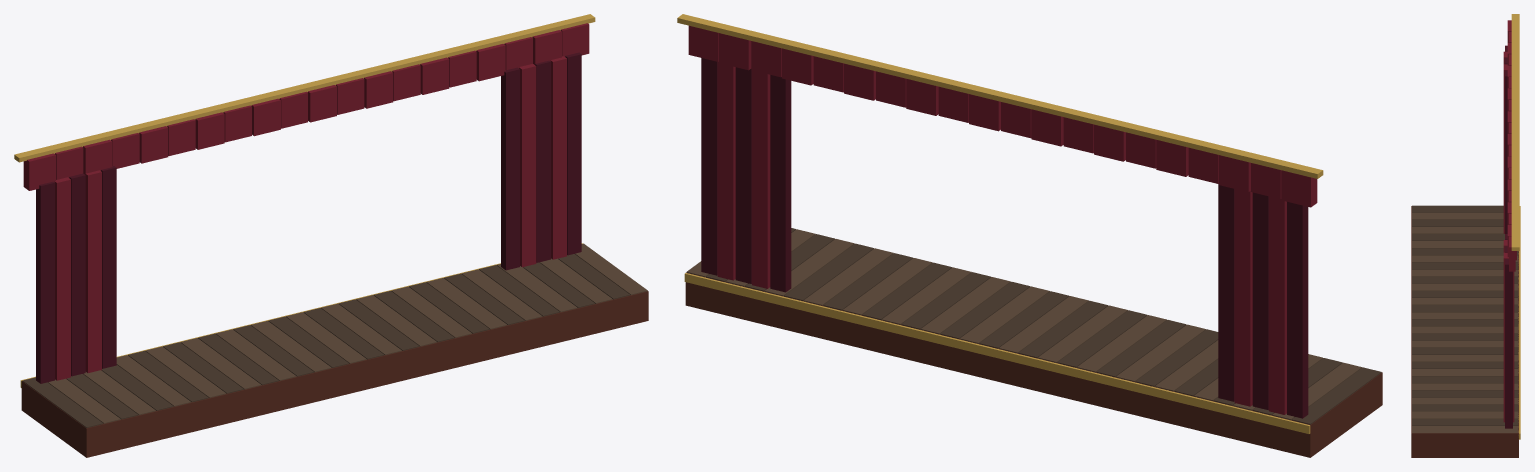
File: SM_ENV_Palco.fbx
The picture shows the model from 3 angles, left to right: view 1: azimuth 30°, elevation 25°; view 2: azimuth 150°, elevation 25°; view 3: azimuth 270°, elevation 25°; orthographic projection. The views are drawn at different scales.
Parts seen in each view (by area): view 1: SM_ENV_Palco; view 2: SM_ENV_Palco; view 3: SM_ENV_Palco.
Part boxes in pixels (x1,y1,x2,y2): SM_ENV_Palco: (14,14,648,457); SM_ENV_Palco: (677,14,1382,457); SM_ENV_Palco: (1411,14,1520,457).
Size of the model in its own units: 8.2 by 3.5 by 1.63.
